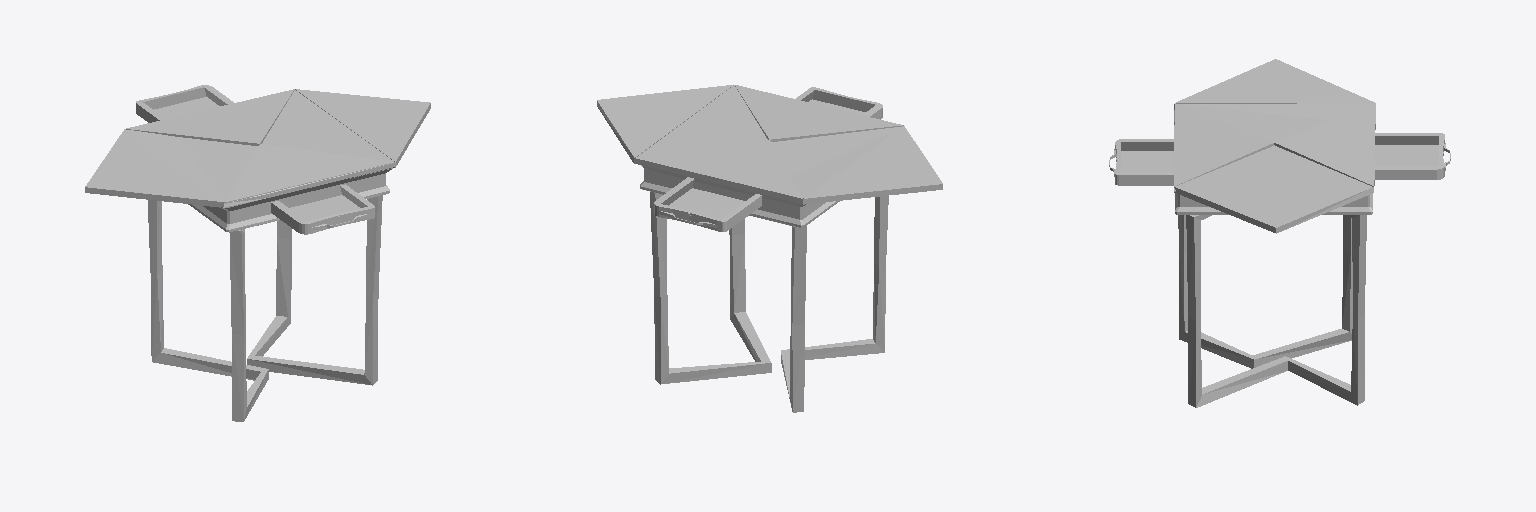
File: updated_table.obj
3 renders of one model, left to right at view 1: azimuth 30°, elevation 25°; view 2: azimuth 150°, elevation 25°; view 3: azimuth 270°, elevation 25°, orthographic.
Parts seen in each view (by area): view 1: table_top, table_legs1, polySurface20 table_body, drawers; view 2: table_top, table_legs1, polySurface20 table_body, drawers; view 3: table_top, table_legs1, polySurface20 table_body, drawers.
Part boxes in pixels (left/top/right/bottom): table_top: left=85, top=89, right=430, bottom=207; table_legs1: left=148, top=195, right=382, bottom=421; polySurface20 table_body: left=127, top=90, right=396, bottom=232; drawers: left=136, top=85, right=374, bottom=234; table_top: left=597, top=85, right=942, bottom=204; table_legs1: left=650, top=192, right=888, bottom=412; polySurface20 table_body: left=636, top=85, right=900, bottom=227; drawers: left=654, top=87, right=882, bottom=231; table_top: left=1174, top=59, right=1375, bottom=233; table_legs1: left=1178, top=215, right=1366, bottom=407; polySurface20 table_body: left=1174, top=103, right=1373, bottom=214; drawers: left=1109, top=133, right=1450, bottom=185.
Size of the model in its own units: 6.3 by 3.96 by 5.38.